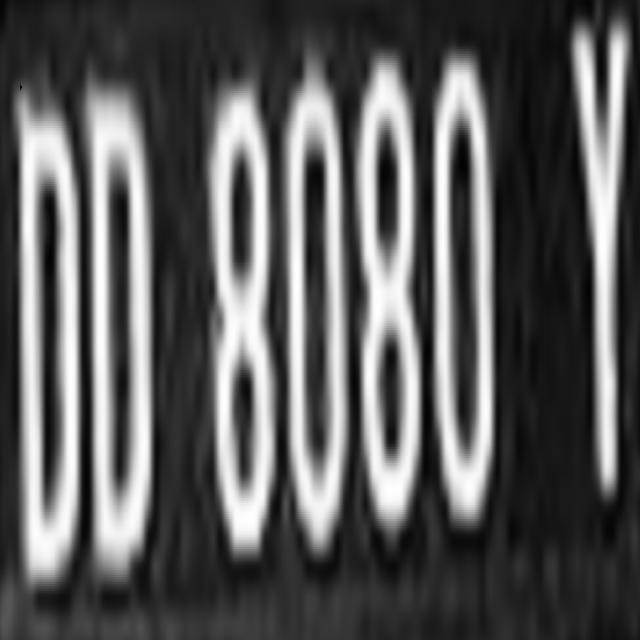0: (431, 58, 506, 544), (288, 70, 346, 554)
8: (203, 83, 285, 554), (351, 60, 428, 540)
D: (76, 72, 172, 586), (7, 76, 95, 592)
Y: (550, 5, 640, 518)
